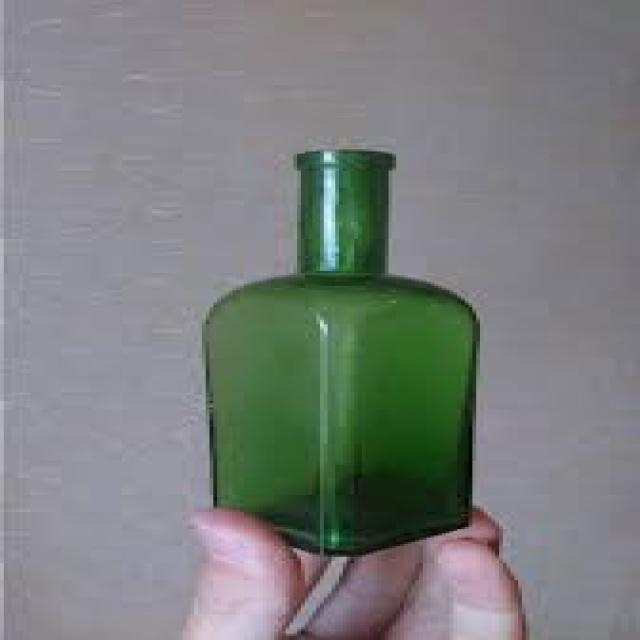glass: (198, 147, 476, 555)
